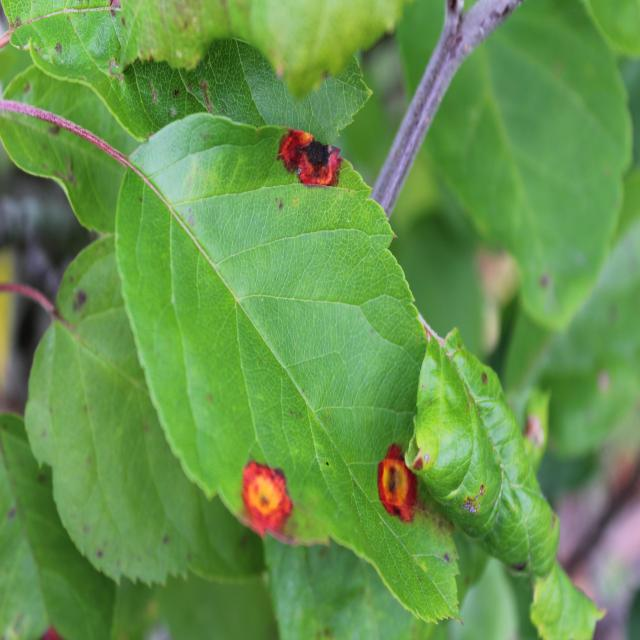Rust: (231, 438, 299, 545), (273, 112, 343, 203), (371, 438, 432, 530)
